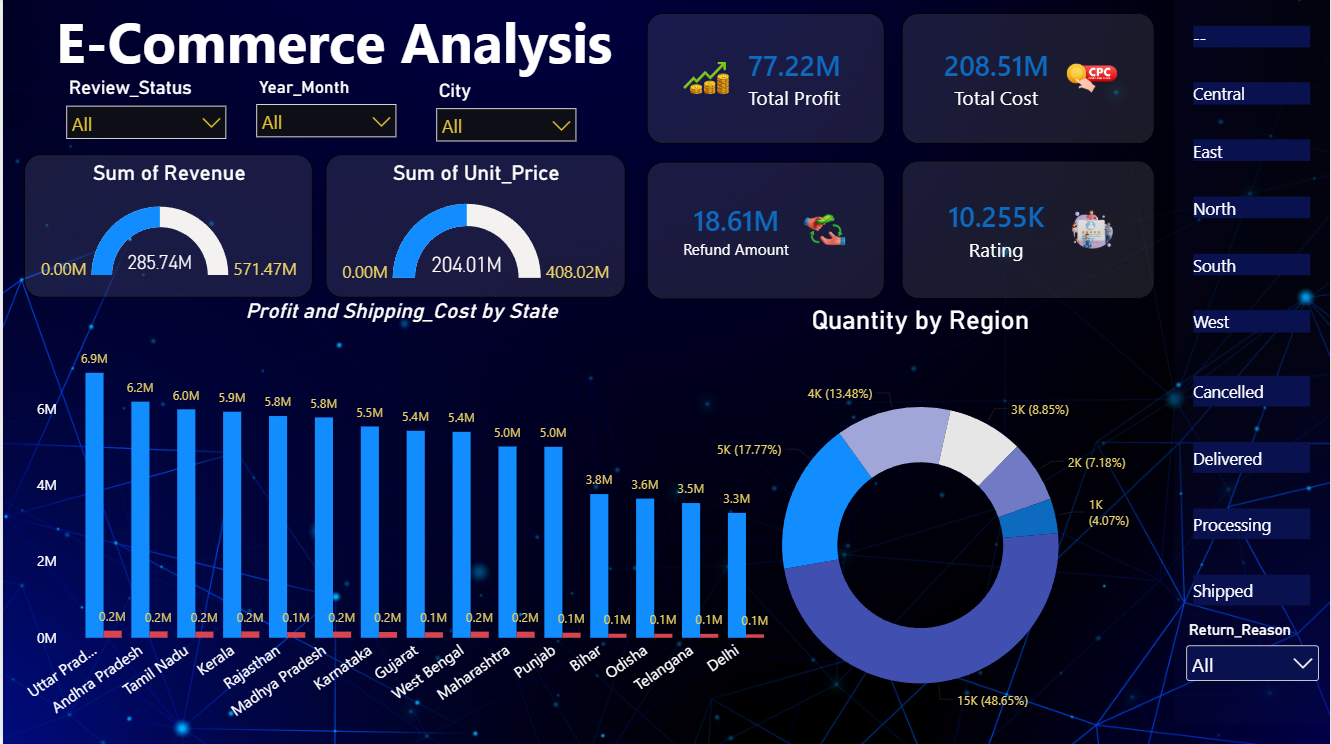

The page's visual inventory and layout, read from the dashboard file:
{"tool":"powerbi","page":{"name":"  Page 1","canvas":[1280,720],"ordinal":0},"visuals":[{"type":"textbox","box":[0,0,639.4,112.2],"z":0},{"type":"shape","box":[1130.4,0,149.6,700.9],"z":1000},{"type":"advancedSlicerVisual","fields":{"Values":["customers.Region"]},"box":[1130.4,8.4,149.6,337.8],"z":2000},{"type":"advancedSlicerVisual","fields":{"Values":["orders.Order_Status"]},"box":[1130.4,346.2,149.6,260.6],"z":3000},{"type":"slicer","fields":{"Values":["returns.Return_Reason"]},"box":[1131.6,596,148.4,105],"z":4000},{"type":"clusteredColumnChart","title":"Profit and Shipping_Cost by State","fields":{"Category":["locations.State"],"Y":["Sum(orders.Profit)","Sum(orders.Shipping_Cost)"]},"box":[11.5,290,745.9,429.9],"z":5000},{"type":"donutChart","title":"Quantity by Region","fields":{"Y":["Sum(orders.Quantity)"],"Category":["customers.Region"]},"box":[639.4,289.5,492.2,430.7],"z":6000},{"type":"cardVisual","fields":{"Data":["Sum(orders.Profit)"]},"box":[621.3,14.5,229.2,126.7],"z":7000},{"type":"cardVisual","fields":{"Data":["Sum(orders.Cost)"]},"box":[867.4,14.5,243.7,126.7],"z":8000},{"type":"cardVisual","fields":{"Data":["Sum(returns.Refund_Amount)"]},"box":[621.3,158,229.2,132.7],"z":9000},{"type":"cardVisual","fields":{"Data":["CountNonNull(reviews.Rating)"]},"box":[867.4,156.8,243.7,133.9],"z":10000},{"type":"gauge","fields":{"Y":["Sum(orders.Revenue)"]},"box":[20.5,150.8,278.7,138.7],"z":11000},{"type":"gauge","fields":{"Y":["Sum(orders.Unit_Price)"]},"box":[311.3,150.8,289.5,138.7],"z":12000},{"type":"slicer","fields":{"Values":["customers.City"]},"box":[407.8,73.6,155.6,77.2],"z":13000},{"type":"slicer","fields":{"Values":["reviews.Review_Status"]},"box":[50.7,71.2,174.9,70],"z":14000},{"type":"slicer","fields":{"Values":["date_dim.Year_Month"]},"box":[234,71.2,155.6,85.7],"z":15000}]}

Visuals, with their boxes in screenshot pixels (x1, y1, x2, y2), scaled from the page's 1280x720 canvas onto the 1331x744 screenshot:
textbox: [left=0, top=0, right=665, bottom=116]
shape: [left=1175, top=0, right=1330, bottom=724]
advancedSlicerVisual - customers.Region: [left=1175, top=9, right=1330, bottom=358]
advancedSlicerVisual - orders.Order_Status: [left=1175, top=358, right=1330, bottom=627]
slicer - returns.Return_Reason: [left=1177, top=616, right=1330, bottom=724]
"Profit and Shipping_Cost by State" clusteredColumnChart: [left=12, top=300, right=788, bottom=743]
"Quantity by Region" donutChart: [left=665, top=299, right=1177, bottom=743]
cardVisual - Sum(orders.Profit): [left=646, top=15, right=884, bottom=146]
cardVisual - Sum(orders.Cost): [left=902, top=15, right=1155, bottom=146]
cardVisual - Sum(returns.Refund_Amount): [left=646, top=163, right=884, bottom=300]
cardVisual - CountNonNull(reviews.Rating): [left=902, top=162, right=1155, bottom=300]
gauge - Sum(orders.Revenue): [left=21, top=156, right=311, bottom=299]
gauge - Sum(orders.Unit_Price): [left=324, top=156, right=625, bottom=299]
slicer - customers.City: [left=424, top=76, right=586, bottom=156]
slicer - reviews.Review_Status: [left=53, top=74, right=235, bottom=146]
slicer - date_dim.Year_Month: [left=243, top=74, right=405, bottom=162]
